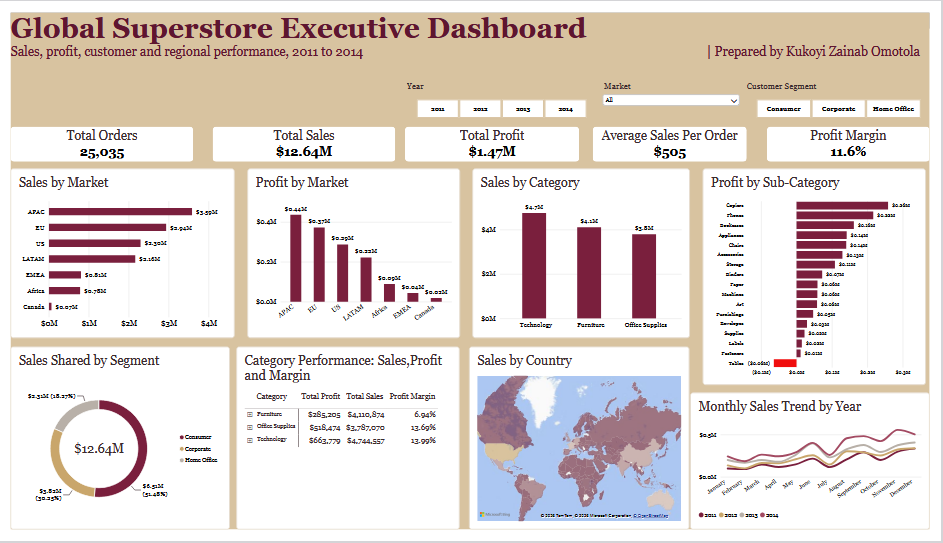

The page's visual inventory and layout, read from the dashboard file:
{"tool":"powerbi","page":{"name":"Global_Superstore_Executive_Dashboard","canvas":[1920,1080],"ordinal":0},"visuals":[{"type":"cardVisual","fields":{"Data":["Orders.Total Sales"]},"box":[422,238,382,74],"z":0},{"type":"cardVisual","fields":{"Data":["Orders.Total Profit"]},"box":[824,238,364,74],"z":1},{"type":"cardVisual","fields":{"Data":["Orders.Total Orders"]},"box":[0,238,382,74],"z":2},{"type":"cardVisual","fields":{"Data":["Orders.Profit Margin"]},"box":[1580,238,340,74],"z":3},{"type":"cardVisual","fields":{"Data":["Orders.Average Sales"]},"box":[1216,238,322,74],"z":4},{"type":"clusteredBarChart","title":"Sales by Market","fields":{"Category":["Orders.Market"],"Y":["Orders.Total Sales"]},"box":[0,326,468,354],"z":5},{"type":"clusteredBarChart","title":"Profit by Sub-Category","fields":{"Category":["Orders.Sub-Category"],"Y":["Orders.Total Profit"]},"box":[1446,326,466,452],"z":6},{"type":"clusteredColumnChart","title":"Sales by Category","fields":{"Category":["Orders.Category"],"Y":["Orders.Total Sales"]},"box":[965.3,326,454,354],"z":7},{"type":"clusteredColumnChart","title":"Profit by Market","fields":{"Category":["Orders.Market"],"Y":["Orders.Total Profit"]},"box":[494.7,326,444,354],"z":8},{"type":"lineChart","title":"Monthly Sales Trend by Year","fields":{"Category":["Orders.Month Name"],"Series":["Orders.Year"],"Y":["Orders.Total Sales"]},"box":[1420,794,500,286],"z":9},{"type":"donutChart","title":"Sales Shared by Segment","fields":{"Category":["Orders.Segment"],"Y":["Orders.Total Sales"]},"box":[0,698,458,382],"z":10},{"type":"filledMap","title":"Sales by Country","fields":{"Category":["Orders.Country"]},"box":[958,698,460,382],"z":11},{"type":"pivotTable","title":"Category Performance: Sales,Profit and Margin","fields":{"Rows":["Orders.Category","Orders.Sub-Category"],"Values":["Orders.Total Profit","Orders.Total Sales","Orders.Profit Margin"]},"box":[472,698,466,382],"z":12},{"type":"slicer","title":"Year","fields":{"Values":["Orders.Year"]},"box":[828,144,394,78],"z":14},{"type":"textbox","box":[0,0,1920,126],"z":16},{"type":"slicer","fields":{"Values":["Orders.Market"]},"box":[1232,144,296,78],"z":17},{"type":"slicer","title":"Customer Segment","fields":{"Values":["Orders.Segment"]},"box":[1538,144,382,78],"z":18}]}

Visuals, with their boxes in screenshot pixels (x1, y1, x2, y2), scaled from the page's 1920x1080 canvas onto the 943x543 screenshot:
cardVisual - Orders.Total Sales: bbox=(207, 120, 395, 157)
cardVisual - Orders.Total Profit: bbox=(405, 120, 583, 157)
cardVisual - Orders.Total Orders: bbox=(0, 120, 188, 157)
cardVisual - Orders.Profit Margin: bbox=(776, 120, 942, 157)
cardVisual - Orders.Average Sales: bbox=(597, 120, 755, 157)
"Sales by Market" clusteredBarChart: bbox=(0, 164, 230, 342)
"Profit by Sub-Category" clusteredBarChart: bbox=(710, 164, 939, 391)
"Sales by Category" clusteredColumnChart: bbox=(474, 164, 697, 342)
"Profit by Market" clusteredColumnChart: bbox=(243, 164, 461, 342)
"Monthly Sales Trend by Year" lineChart: bbox=(697, 399, 942, 542)
"Sales Shared by Segment" donutChart: bbox=(0, 351, 225, 542)
"Sales by Country" filledMap: bbox=(471, 351, 696, 542)
"Category Performance: Sales,Profit and Margin" pivotTable: bbox=(232, 351, 461, 542)
"Year" slicer: bbox=(407, 72, 600, 112)
textbox: bbox=(0, 0, 942, 63)
slicer - Orders.Market: bbox=(605, 72, 750, 112)
"Customer Segment" slicer: bbox=(755, 72, 942, 112)
